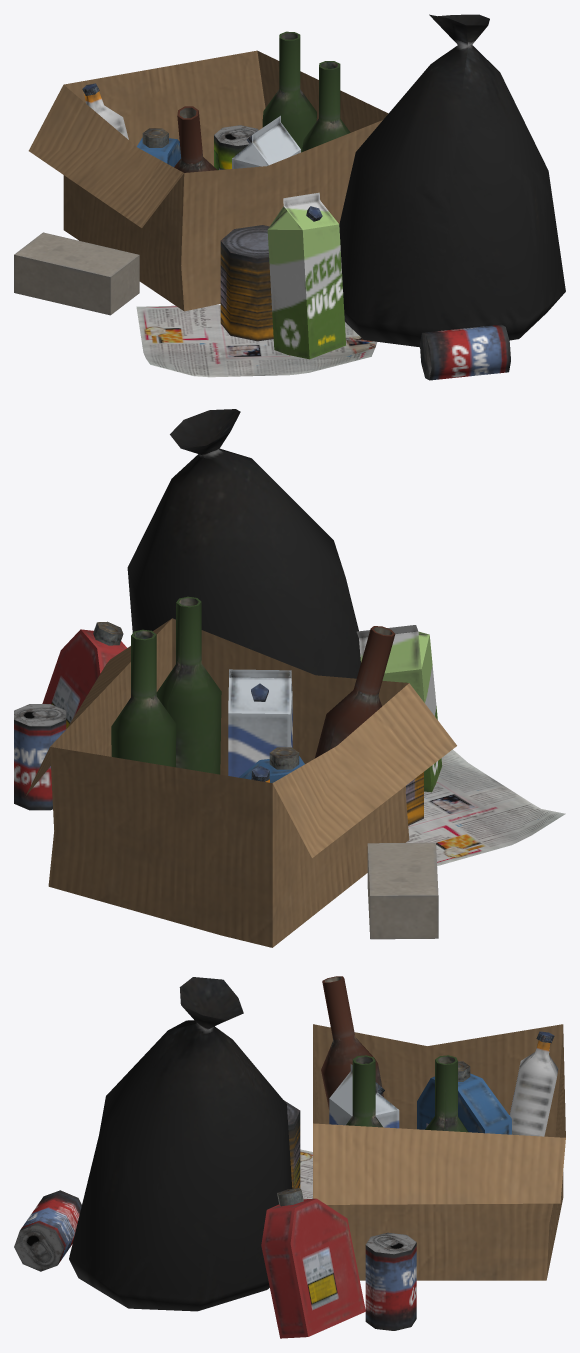
File: Garbage_13_LOD1.fbx
3 views of the same model, one above another, from view 1: azimuth 30°, elevation 25°; view 2: azimuth 150°, elevation 25°; view 3: azimuth 270°, elevation 25° (orthographic). The views are drawn at different scales.
Parts seen in each view (by area): view 1: polySurface864; view 2: polySurface864; view 3: polySurface864.
Part boxes in pixels (box(x1,y1,x2,y2)): polySurface864: box(14, 14, 565, 380); polySurface864: box(14, 409, 565, 947); polySurface864: box(14, 976, 565, 1338).
Bounding box in the file's own units: 192 × 127 × 204.
